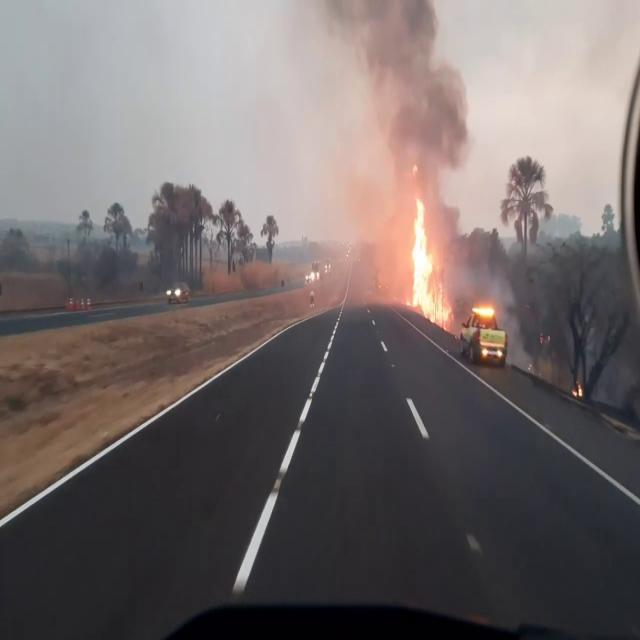Fire: (404, 192, 448, 323)
Smoke: (316, 0, 478, 264)
